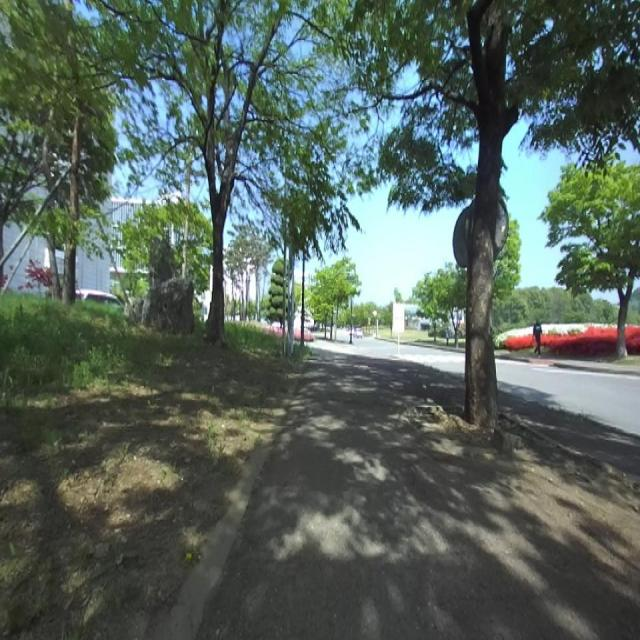sidewalk: (199, 349, 640, 639)
